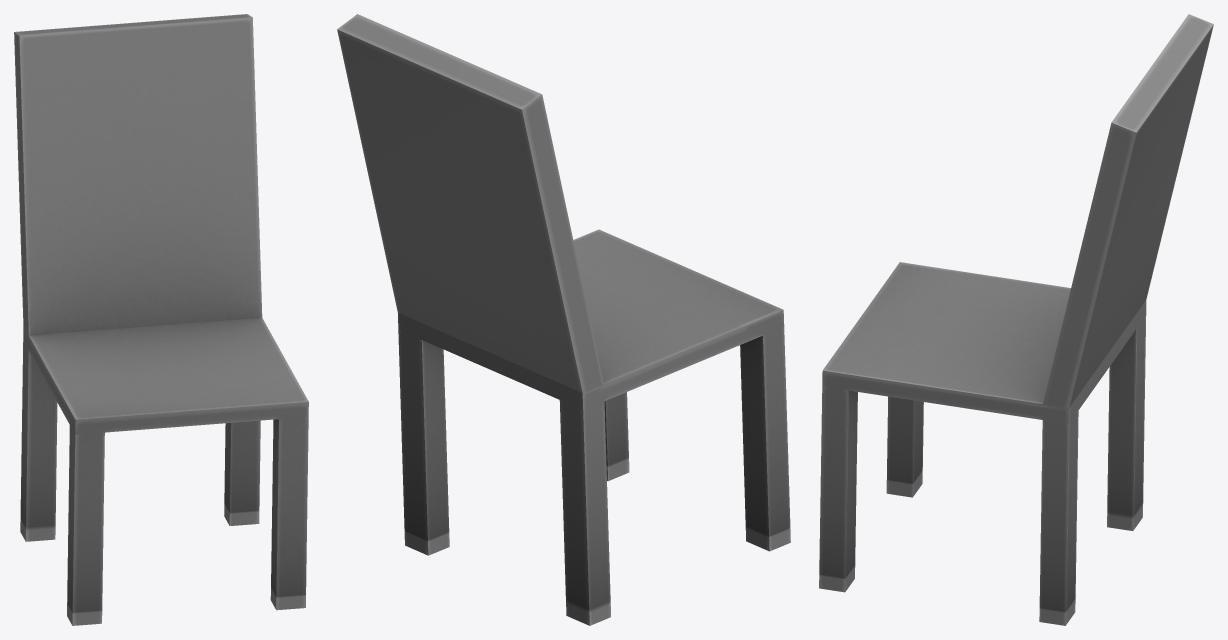
File: bar_mesh.020_lev1.glb
3 views of the same model, side by side, from view 1: azimuth 30°, elevation 25°; view 2: azimuth 150°, elevation 25°; view 3: azimuth 270°, elevation 25° (orthographic). The views are drawn at different scales.
Visible parts, largest first — view 1: bar_mesh.020_lev1; view 2: bar_mesh.020_lev1; view 3: bar_mesh.020_lev1.
Boxes of the visible parts, <box> form: bar_mesh.020_lev1: <box>14,14,308,625</box>; bar_mesh.020_lev1: <box>337,14,790,625</box>; bar_mesh.020_lev1: <box>819,14,1213,625</box>.
Bounding box in the file's own units: 1.81 × 2.9 × 2.
1 material, 1 textured.
